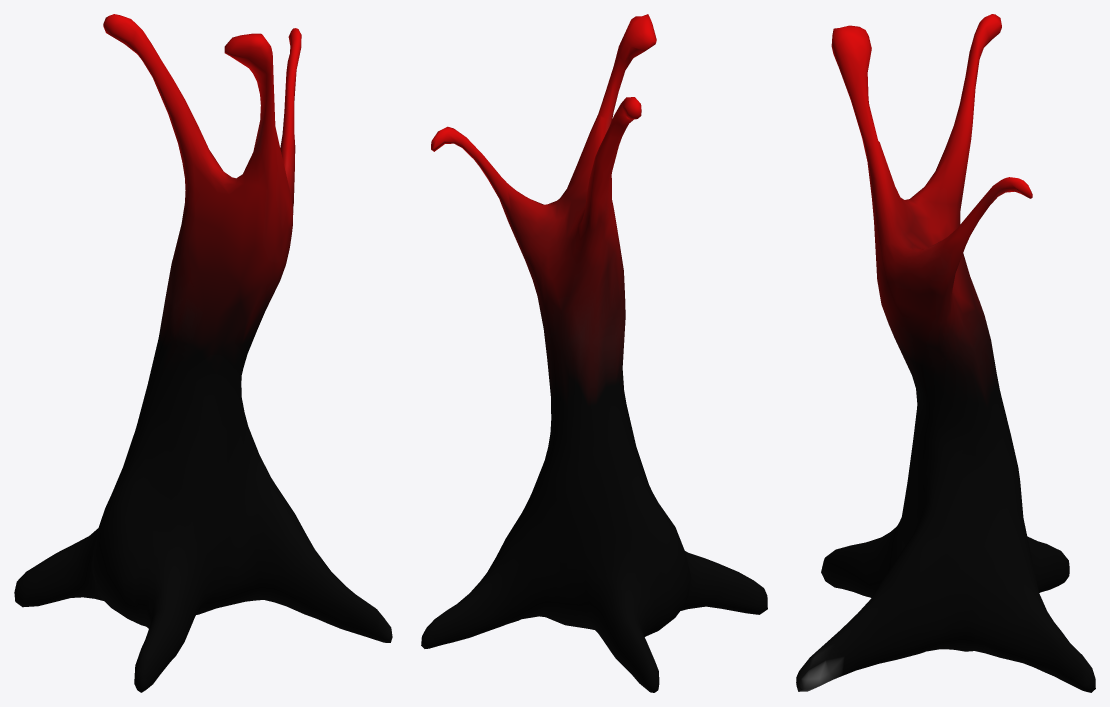
Rendered from Tree.fbx.
3 renders of one model, left to right at view 1: azimuth 30°, elevation 25°; view 2: azimuth 150°, elevation 25°; view 3: azimuth 270°, elevation 25°, orthographic. The views are drawn at different scales.
Visible parts, largest first — view 1: Icosphere; view 2: Icosphere; view 3: Icosphere.
Part boxes in pixels (left/top/right/bottom): Icosphere: left=14, top=14, right=392, bottom=692; Icosphere: left=421, top=14, right=767, bottom=692; Icosphere: left=796, top=14, right=1095, bottom=692.
Size of the model in its own units: 58.54 by 132 by 58.32.
